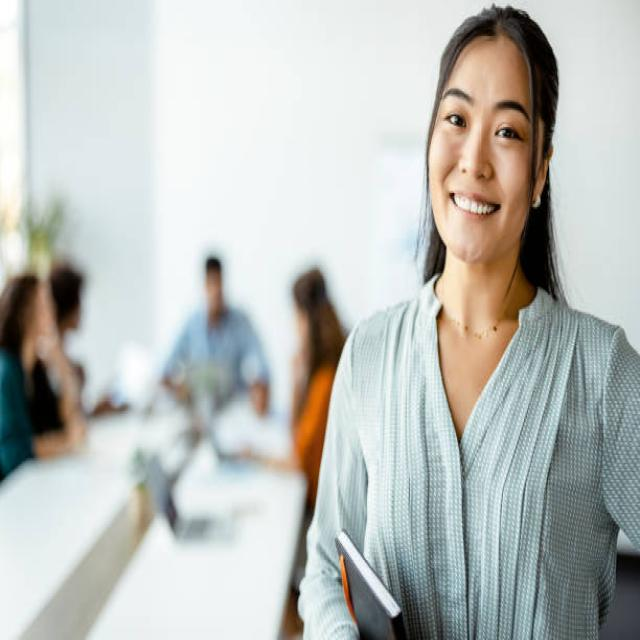no_mask: (399, 7, 594, 330)
